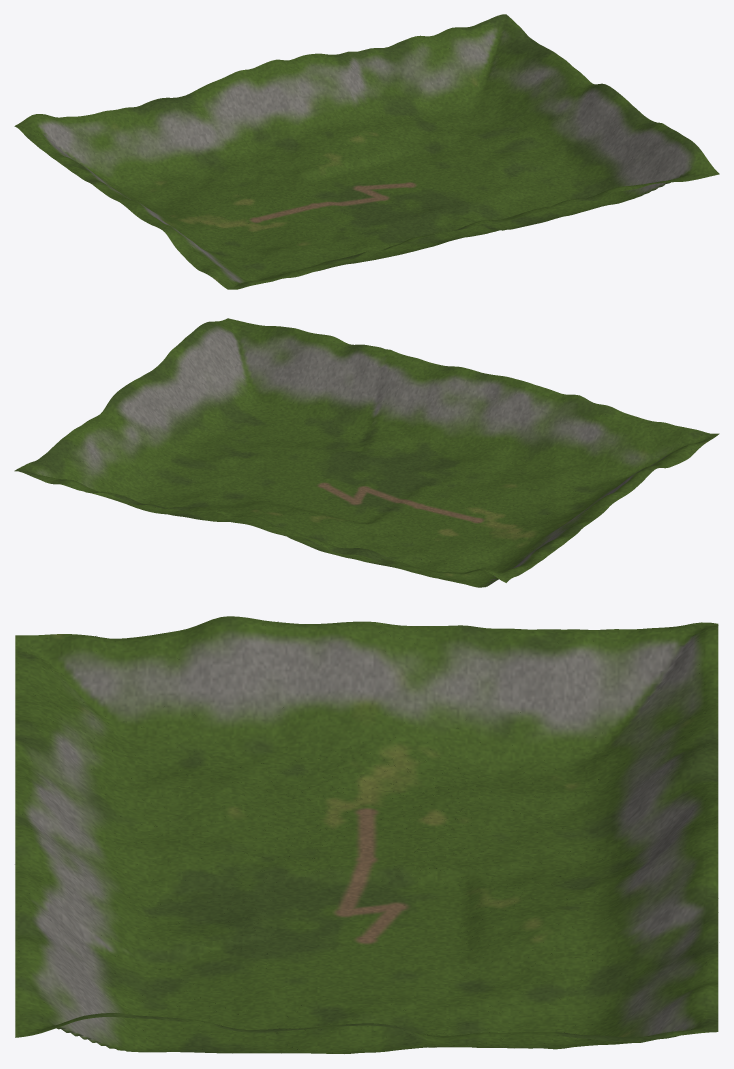
Rendered from SM_Art_Terrain_L_WakingCourse.gltf.
3 renders of one model, top to bottom at view 1: azimuth 30°, elevation 25°; view 2: azimuth 150°, elevation 25°; view 3: azimuth 270°, elevation 25°, orthographic. The views are drawn at different scales.
Visible parts, largest first — view 1: SM_Art_Terrain_L_WakingCourse; view 2: SM_Art_Terrain_L_WakingCourse; view 3: SM_Art_Terrain_L_WakingCourse.
Part boxes in pixels (x1,y1,x2,y2): SM_Art_Terrain_L_WakingCourse: [14, 14, 719, 289]; SM_Art_Terrain_L_WakingCourse: [14, 318, 719, 587]; SM_Art_Terrain_L_WakingCourse: [15, 616, 718, 1053].
Size of the model in its own units: 218 by 25.89 by 165.
2 materials, 2 textured.
